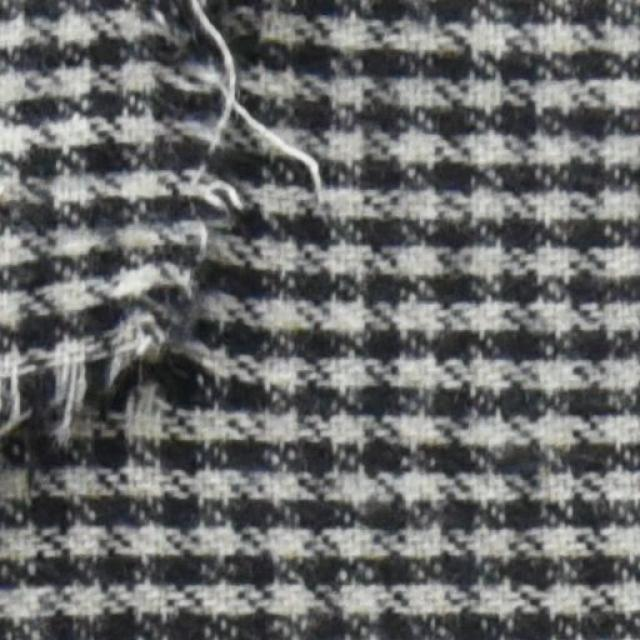Snag: (0, 0, 349, 466)
